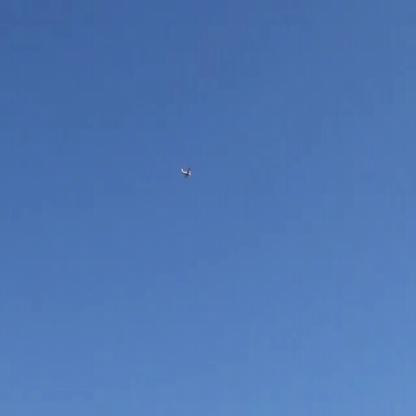CIV_Plane: (180, 166, 192, 178)
